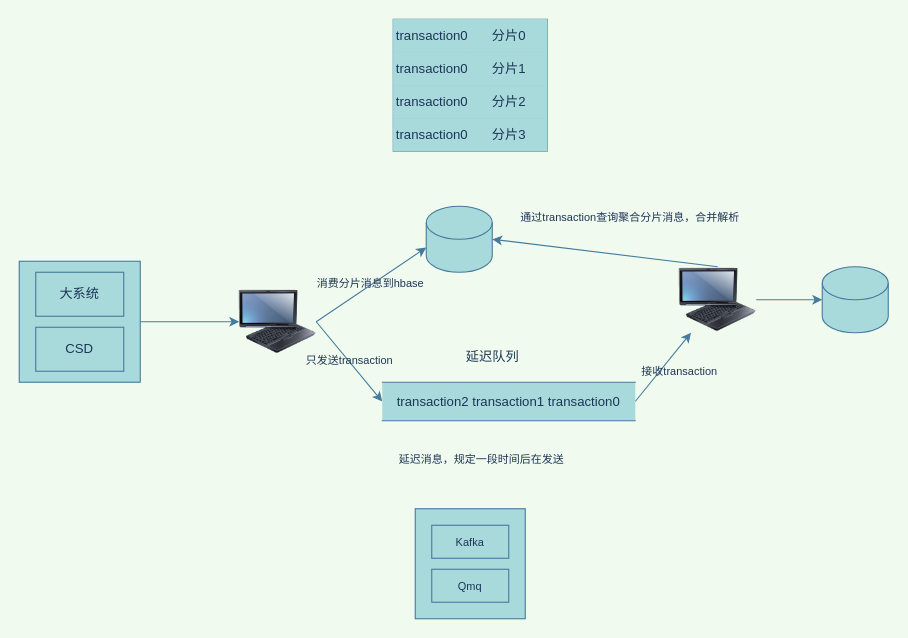
The diagram is 908 pixels wide and 638 high, and some of its shapes have lost their labels. Each missing label, with the box of its shape:
Hbase: (425, 205, 492, 272)
MongoDB: (821, 266, 888, 333)
